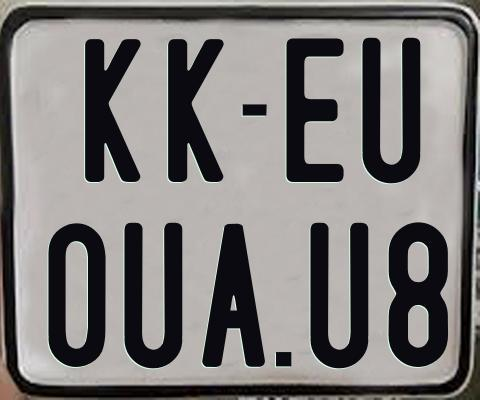0: (45, 221, 104, 367)
8: (388, 220, 450, 366)
A: (200, 224, 264, 371)
E: (286, 35, 350, 179)
K: (83, 38, 142, 186), (167, 39, 224, 188)
U: (309, 222, 373, 370), (123, 220, 186, 367), (361, 36, 422, 184)
